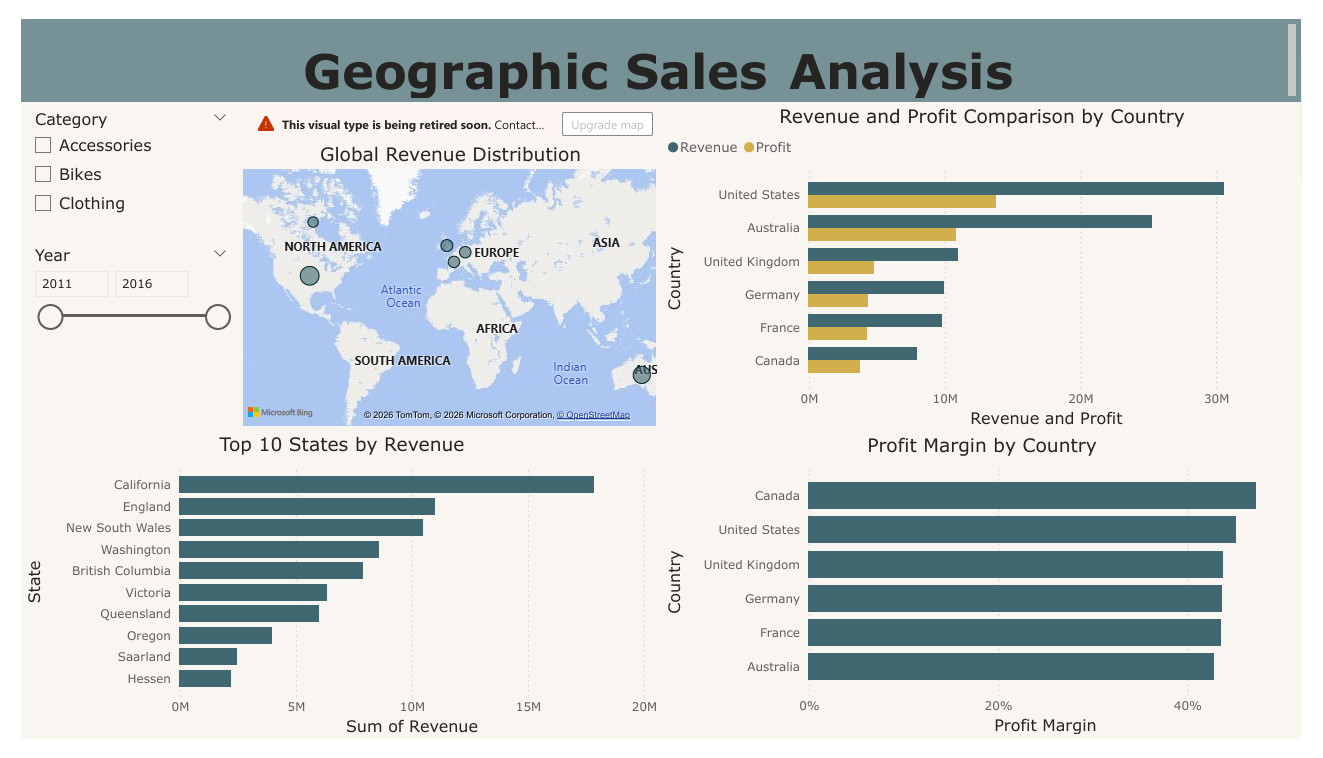

This screenshot's page, from the dashboard's own definition file:
{"tool":"powerbi","page":{"name":"Location Analysis","canvas":[1280,720],"ordinal":3},"visuals":[{"type":"textbox","box":[0,0,1280,83.2],"z":0},{"type":"map","title":"Global Revenue Distribution","fields":{"Category":["Sales_Cleaned.Country"],"Size":["Sum(Sales_Cleaned.Revenue)"]},"box":[216.9,83.6,423.1,328.8],"z":1000},{"type":"barChart","title":"Top 10 States by Revenue","fields":{"Category":["Sales_Cleaned.State"],"Y":["Sum(Sales_Cleaned.Revenue)"]},"box":[0,412.4,640,307.4],"z":1001},{"type":"clusteredBarChart","title":"Revenue and Profit Comparison by Country","fields":{"Category":["Sales_Cleaned.Country"],"Y":["Sum(Sales_Cleaned.Revenue)","Sum(Sales_Cleaned.Profit)"]},"box":[640,83.6,640,328.8],"z":1002},{"type":"barChart","fields":{"Y":["Sales_Cleaned.Profit Margin"],"Category":["Sales_Cleaned.Country"]},"box":[640,413,640,306],"z":1003},{"type":"slicer","fields":{"Values":["Sales_Cleaned.Product_Category"]},"box":[0,83.6,216.9,136.2],"z":1004},{"type":"slicer","fields":{"Values":["Sales_Cleaned.Year"]},"box":[0,219.8,216.9,192.6],"z":1005}]}

Visuals, with their boxes in screenshot pixels (x1, y1, x2, y2), scaled from the page's 1280x720 canvas onto the 1323x758 screenshot:
textbox: locate(0, 0, 1322, 88)
"Global Revenue Distribution" map: locate(224, 88, 662, 434)
"Top 10 States by Revenue" barChart: locate(0, 434, 662, 757)
"Revenue and Profit Comparison by Country" clusteredBarChart: locate(662, 88, 1322, 434)
barChart - Sales_Cleaned.Profit Margin x Sales_Cleaned.Country: locate(662, 435, 1322, 757)
slicer - Sales_Cleaned.Product_Category: locate(0, 88, 224, 231)
slicer - Sales_Cleaned.Year: locate(0, 231, 224, 434)
